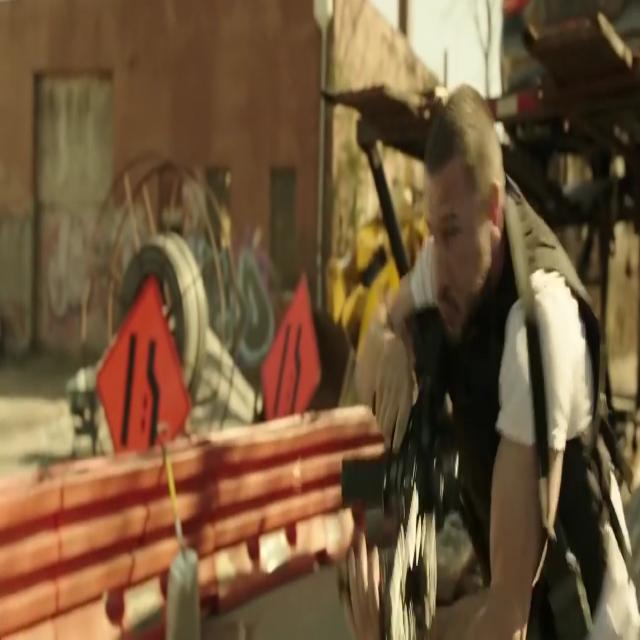Weapon: (346, 353, 476, 616)
